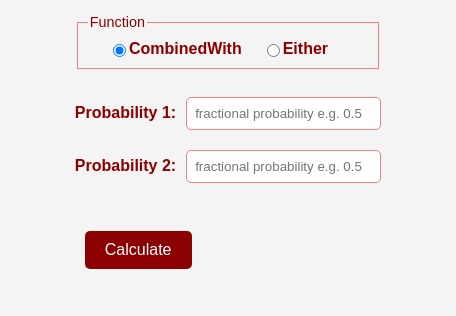
Test case: shows error message when prob1 is invalid
The image size is (456, 316).
Type "2" into the field labelled "Probability 1:" at (284, 114), box [186,97,381,130]
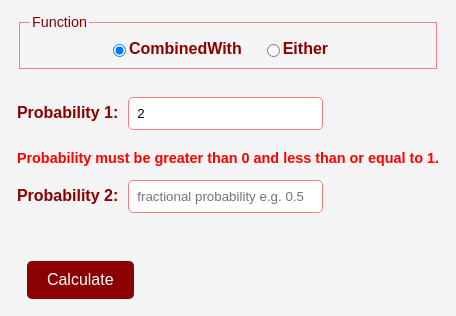
Check: the message named "probability 1 alert" shows "Probability must be", box [17,150,439,166]
